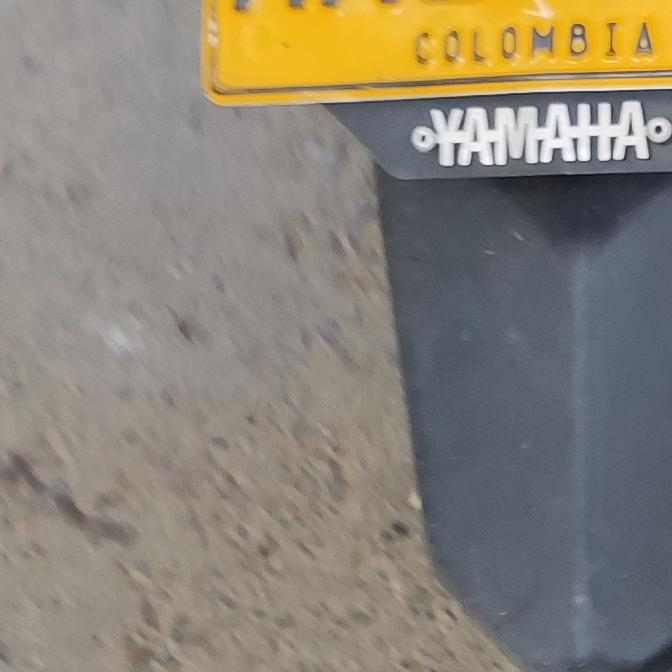plates: (196, 0, 672, 108)
